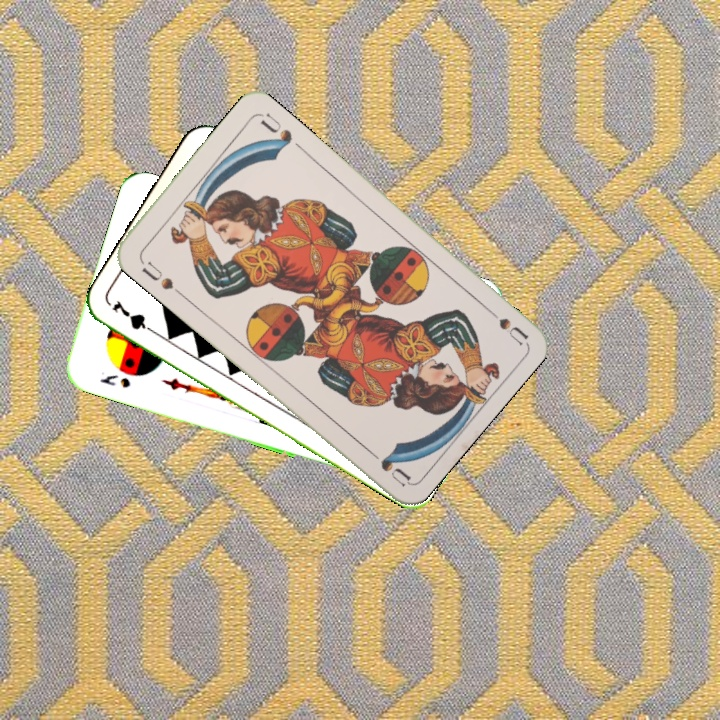G7: (107, 295, 161, 338)
SK: (96, 370, 133, 391)
SU: (478, 300, 530, 347), (136, 255, 185, 298)
